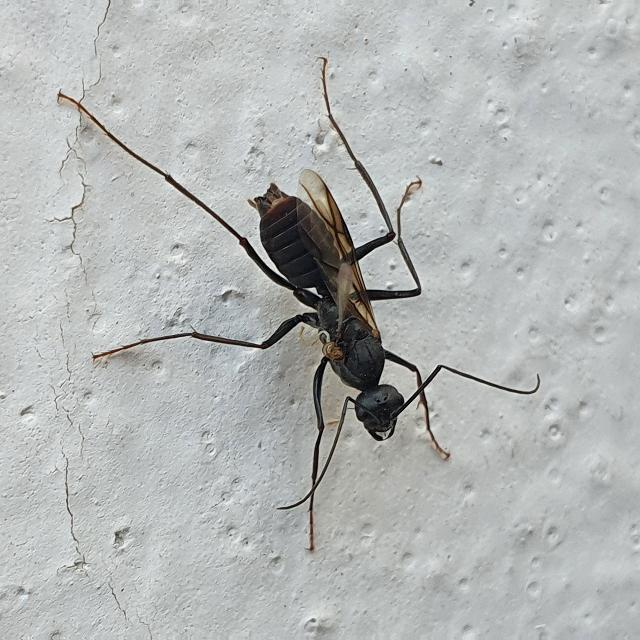Cataglyphis: (210, 148, 472, 482)
